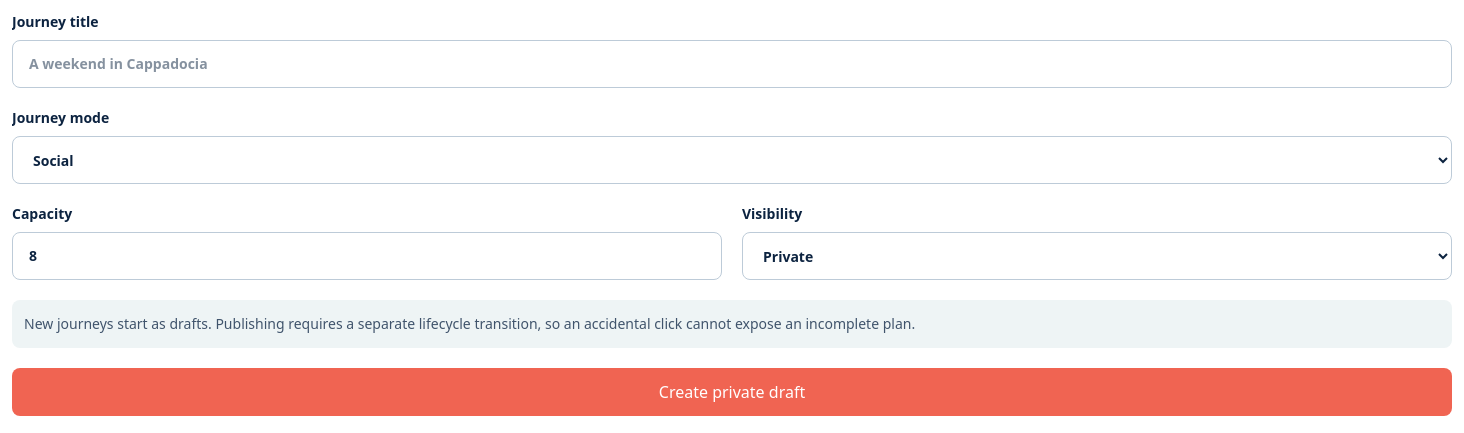
Test: QuickCreateForm › creates a private draft through the authenticated API contract
This screenshot has width=1464, height=433.
Type "Cappadocia Together" into the field labelled "Journey title".
click(732, 64); type("Cappadocia Together")  # box [12,40,1452,88]
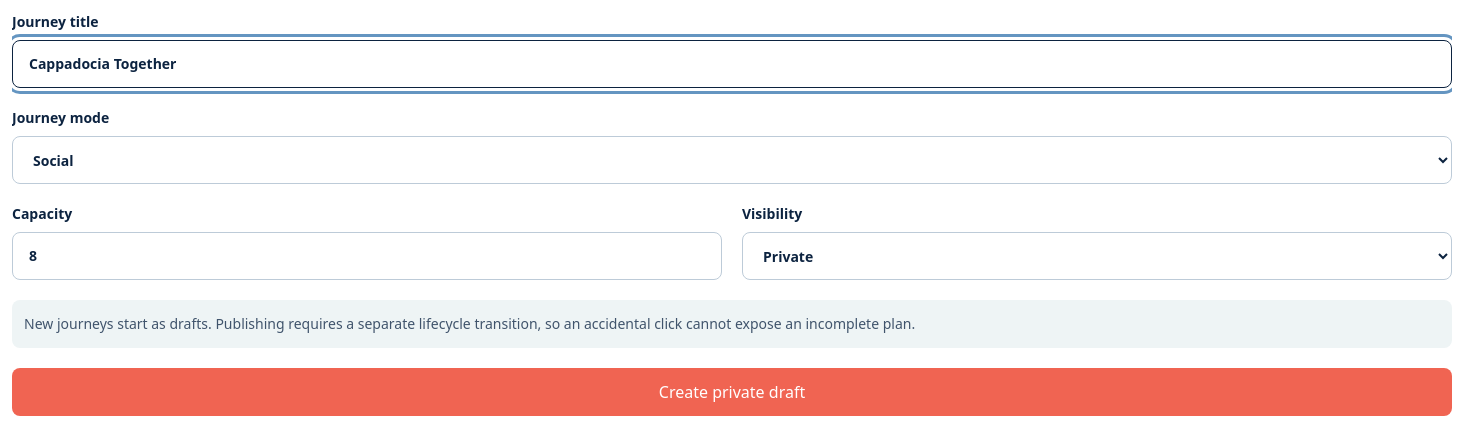
Click the button "Create private draft".
click(732, 392)  # box [12,368,1452,416]
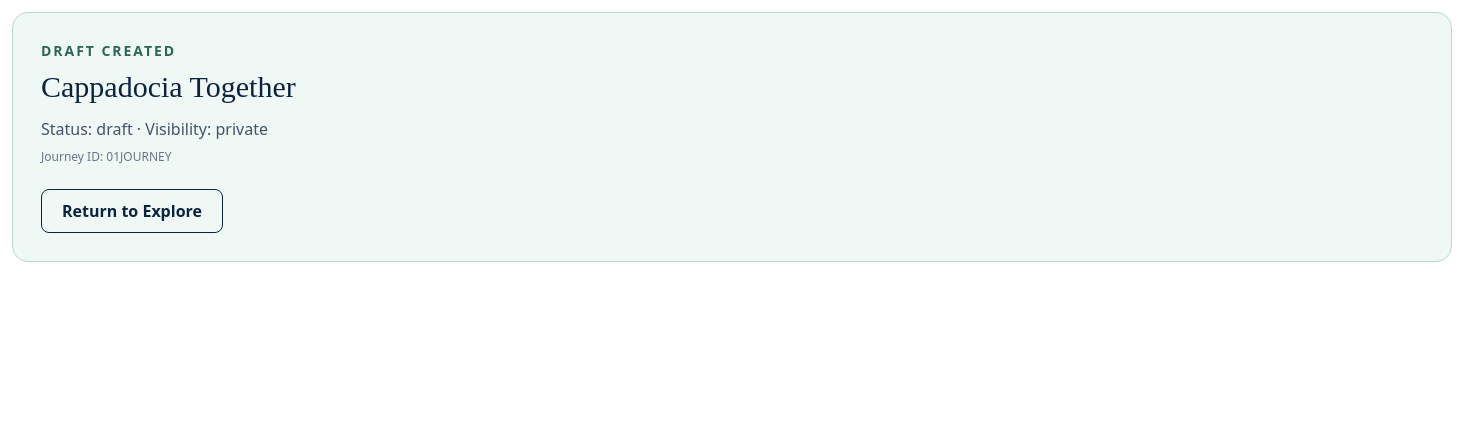
Expected: the text "Draft created" is shown, [41,41,176,60]
Expected: the heading "Cappadocia Together" is shown, [41,70,296,103]
